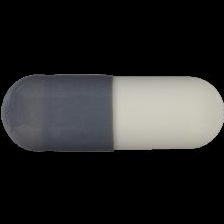0179-1838: (0, 0, 224, 224)
